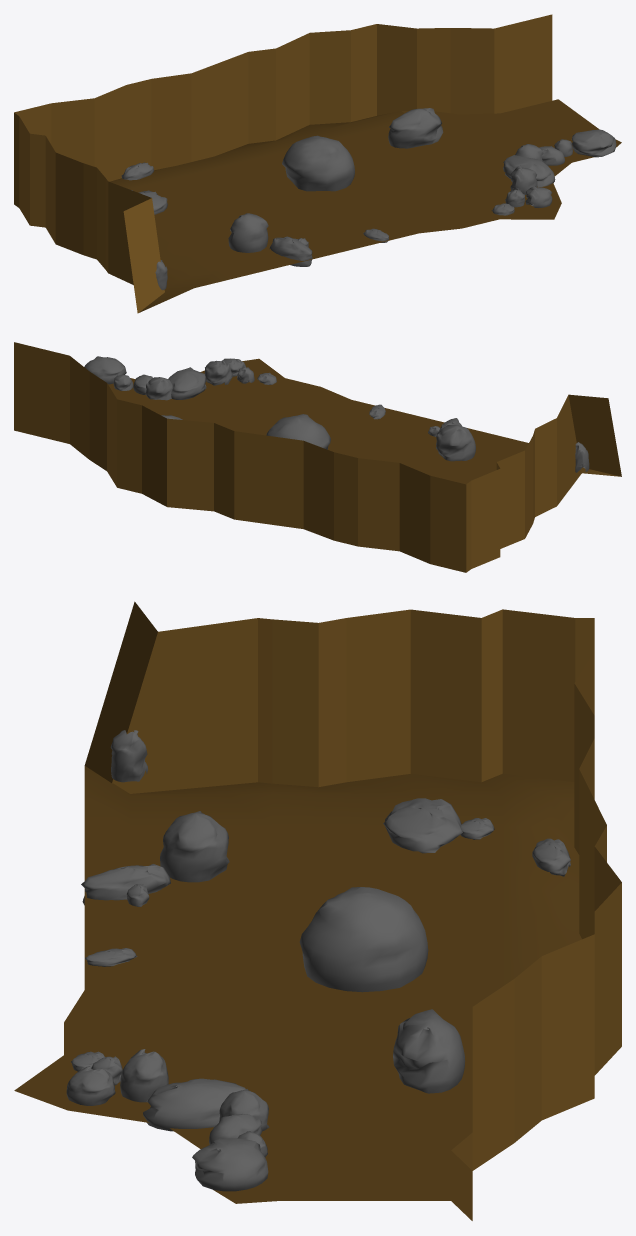
Rendered from unity lionden.fbx.
3 views of the same model, one above another, from view 1: azimuth 30°, elevation 25°; view 2: azimuth 150°, elevation 25°; view 3: azimuth 270°, elevation 25° (orthographic). The views are drawn at different scales.
Parts seen in each view (by area): view 1: pSphere20; view 2: pSphere20; view 3: pSphere20.
Boxes of the visible parts, x1,y1,x2,y2 form: pSphere20: [14, 14, 621, 313]; pSphere20: [14, 342, 621, 572]; pSphere20: [14, 601, 621, 1220].
Bounding box in the file's own units: 24.48 × 4.09 × 13.7.
